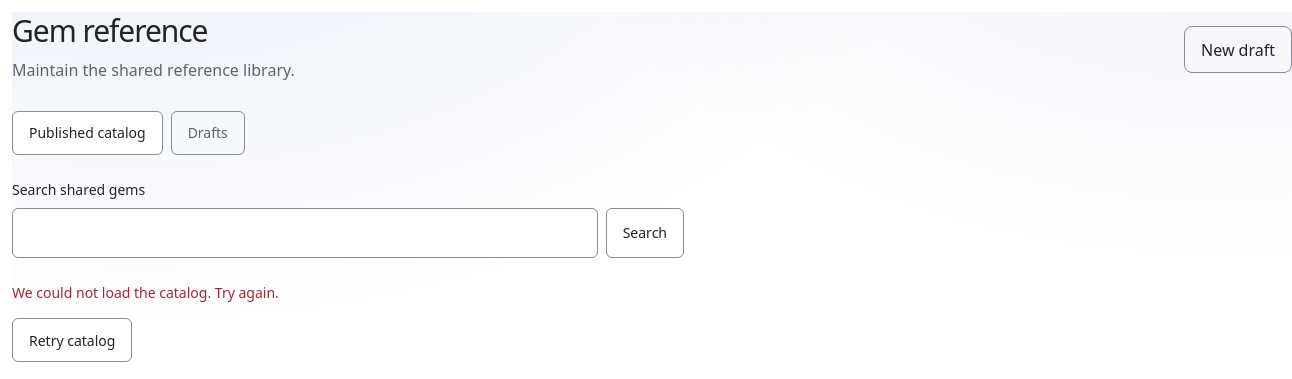
it: shared catalog › distinguishes failed loads from empty content and retries
The image size is (1292, 379).
Expected: the message shows "could not load", [12,283,159,302]
Expected: the text "No published entries yet." is not shown
// WHEN the admin retries THEN the confirmed empty state offers creation.
Click the button "Retry catalog" at (72, 340), box [12,318,132,362]
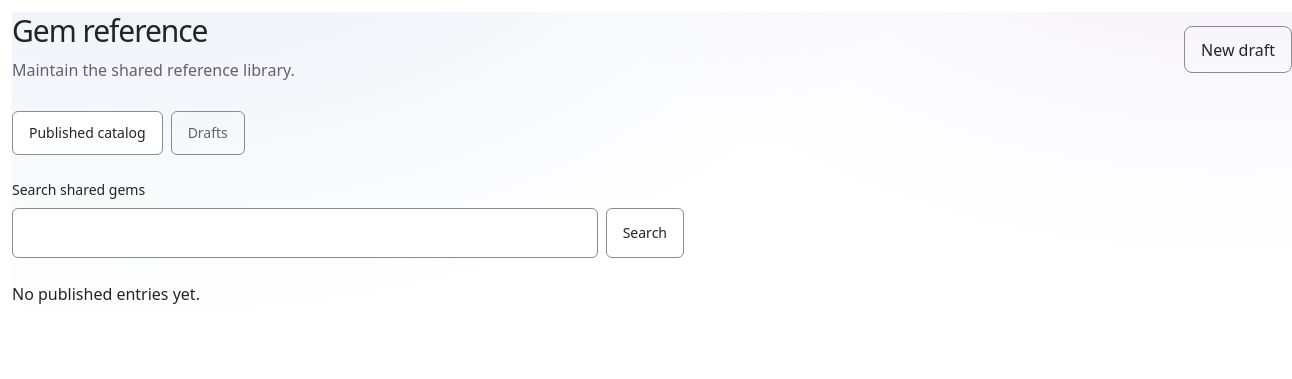
Expected: the text "No published entries yet." is shown, [12,283,200,305]
